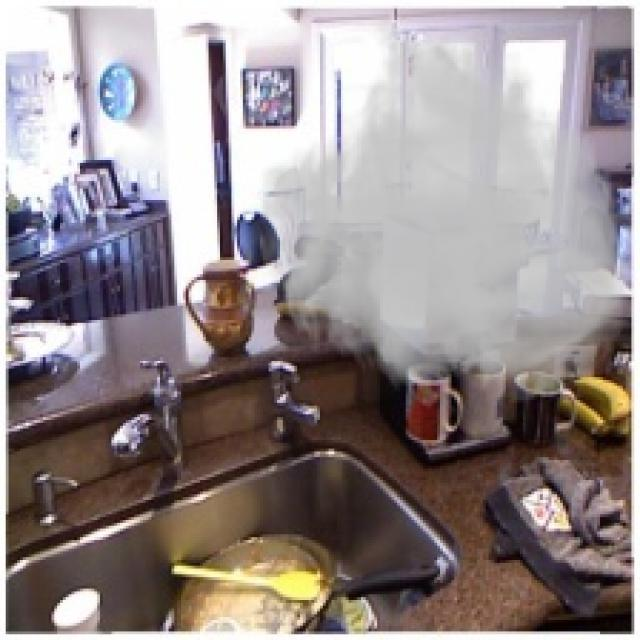smoke: (254, 14, 637, 406)
